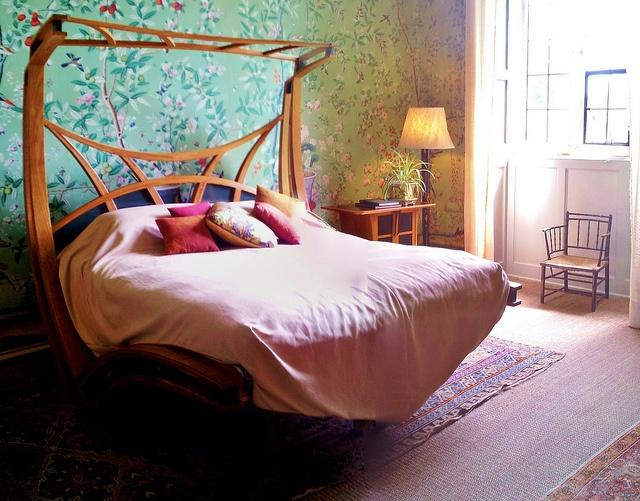Kursi: (539, 211, 611, 312)
